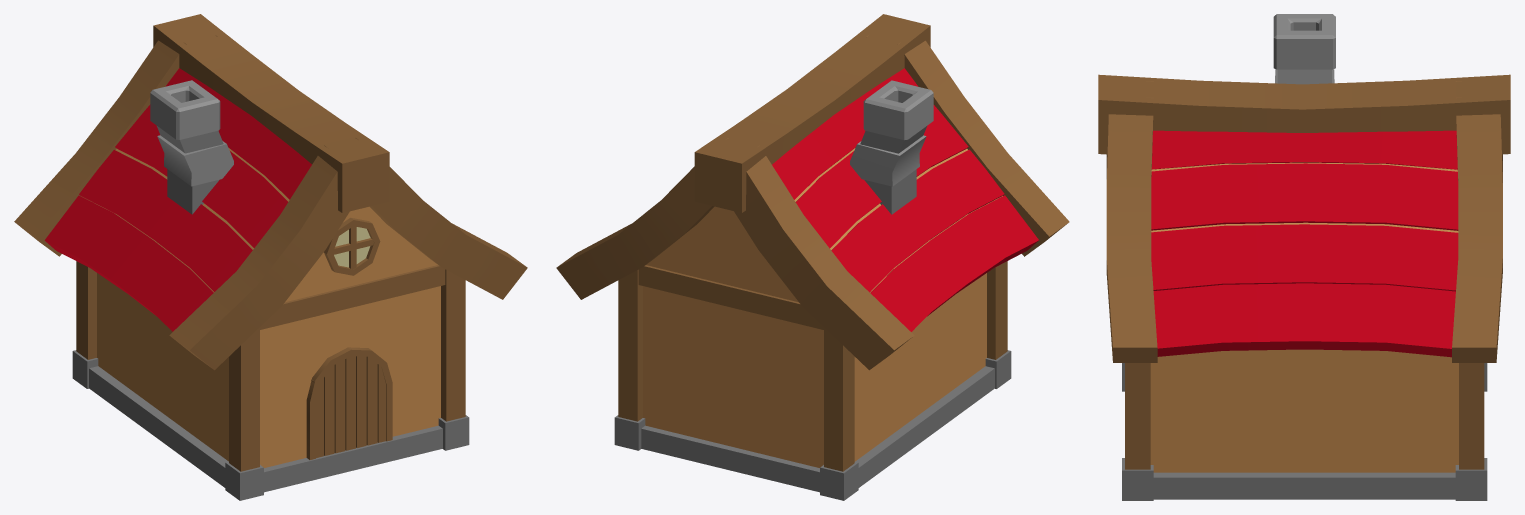
The model's file is House.fbx.
3 renders of one model, left to right at view 1: azimuth 30°, elevation 25°; view 2: azimuth 150°, elevation 25°; view 3: azimuth 270°, elevation 25°, orthographic. The views are drawn at different scales.
Parts seen in each view (by area): view 1: Cube.039; view 2: Cube.039; view 3: Cube.039.
Part boxes in pixels (left/top/right/bottom): Cube.039: left=14, top=14, right=527, bottom=500; Cube.039: left=556, top=14, right=1069, bottom=500; Cube.039: left=1098, top=14, right=1510, bottom=500.
Bounding box in the file's own units: 56.27 × 53.78 × 54.41.
